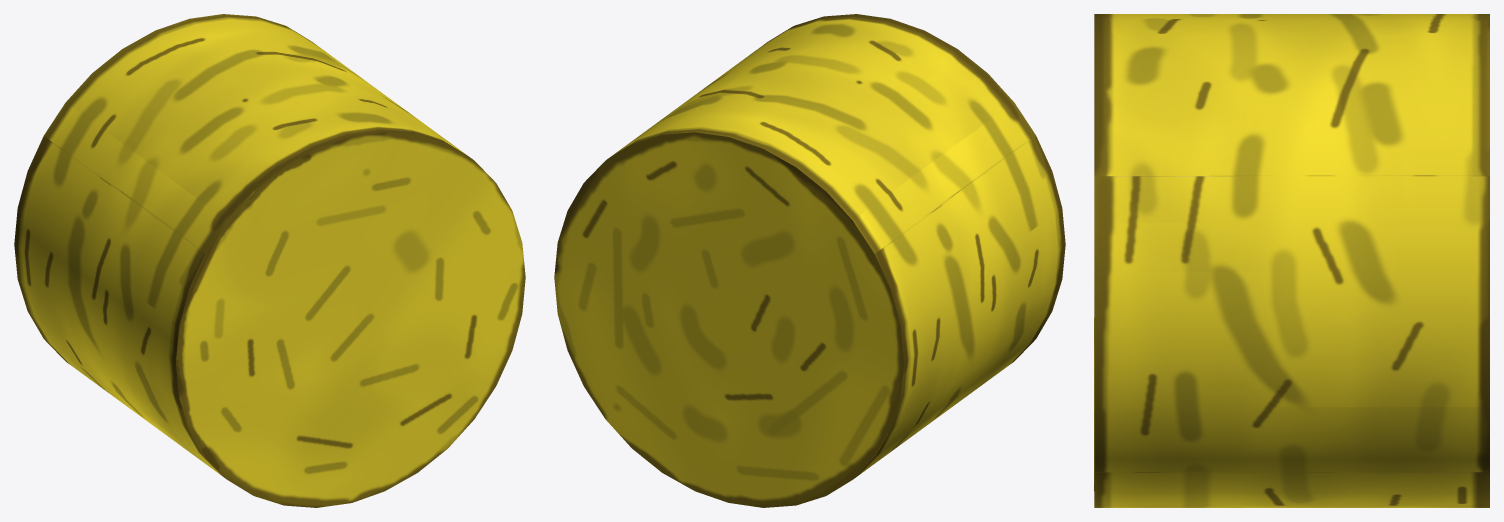
The model's file is ball.fbx.
3 renders of one model, left to right at view 1: azimuth 30°, elevation 25°; view 2: azimuth 150°, elevation 25°; view 3: azimuth 270°, elevation 25°, orthographic. The views are drawn at different scales.
Parts seen in each view (by area): view 1: ball_game; view 2: ball_game; view 3: ball_game.
Boxes of the visible parts, x1,y1,x2,y2 form: ball_game: (14,14,525,507); ball_game: (554,14,1065,507); ball_game: (1094,14,1489,507).
Bounding box in the file's own units: 150 × 150 × 120.
1 material, 1 textured.
